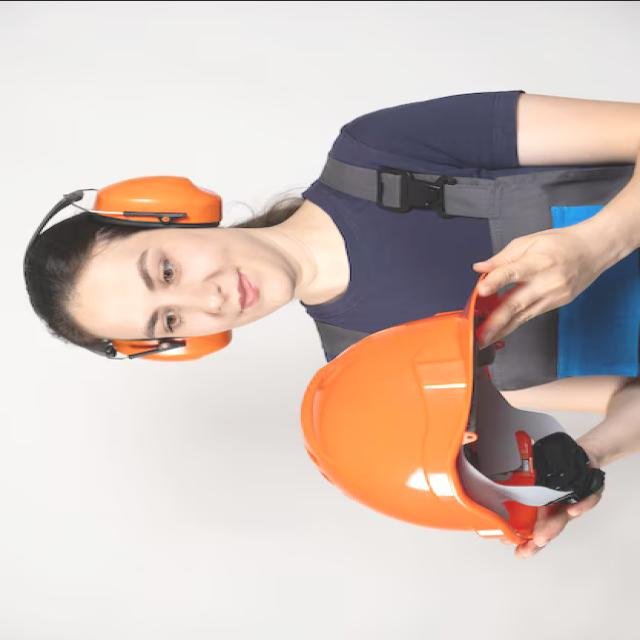Ear Muffs: (86, 172, 230, 229), (106, 328, 236, 366)
Hard Hat: (294, 268, 608, 550)
